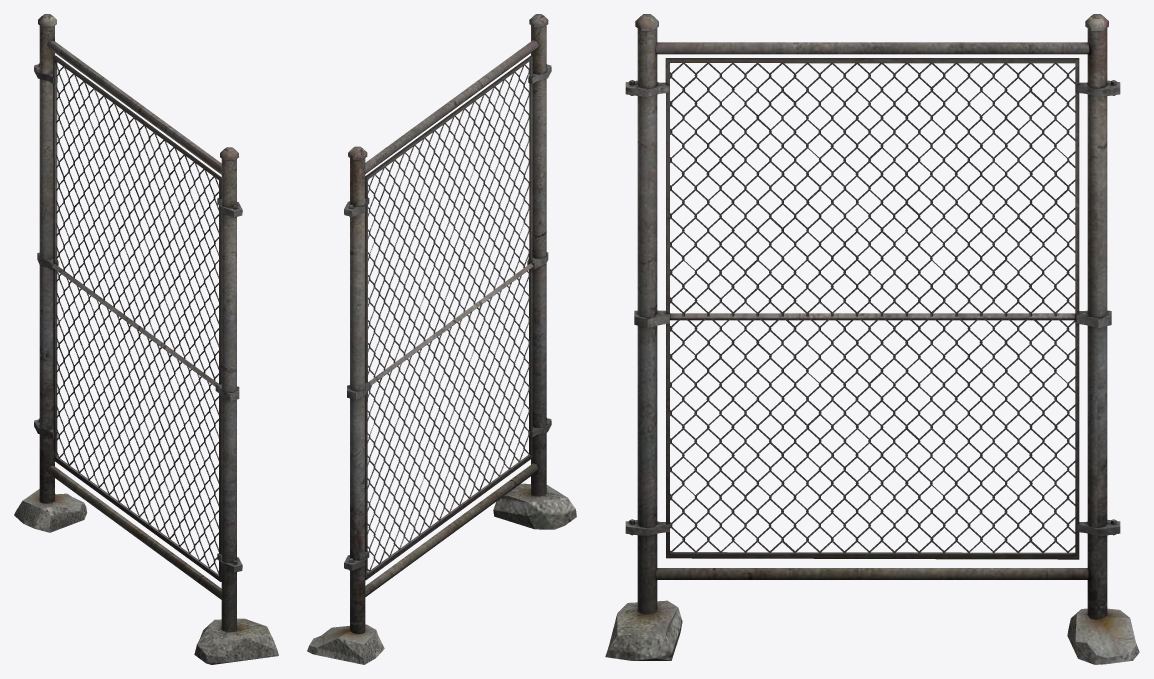
File: fence02b.glb
The picture shows the model from 3 angles, left to right: view 1: azimuth 30°, elevation 25°; view 2: azimuth 150°, elevation 25°; view 3: azimuth 270°, elevation 25°; orthographic projection. The views are drawn at different scales.
Parts seen in each view (by area): view 1: 1_fence_composite01, 0_fence_alpha; view 2: 1_fence_composite01, 0_fence_alpha; view 3: 1_fence_composite01, 0_fence_alpha.
Part boxes in pixels (x1=…): 1_fence_composite01: x1=14, y1=14, x2=278, y2=664; 0_fence_alpha: x1=56, y1=64, x2=218, y2=574; 1_fence_composite01: x1=307, y1=14, x2=576, y2=664; 0_fence_alpha: x1=367, y1=64, x2=529, y2=572; 1_fence_composite01: x1=605, y1=14, x2=1139, y2=664; 0_fence_alpha: x1=670, y1=63, x2=1075, y2=553.
Bounding box in the file's own units: 0.4278 × 2.84 × 2.2.
2 materials, 2 textured.
